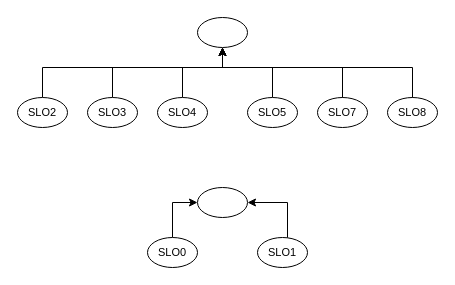
Image size: 455x285. Some labels were removed from this diagram. The shapes that lost their labels are listed below. From the top down, each one's box as (x1, y1, x2, y2) in pixels, then its label:
(196, 16, 248, 48): SLO9
(196, 186, 248, 218): SLO6
